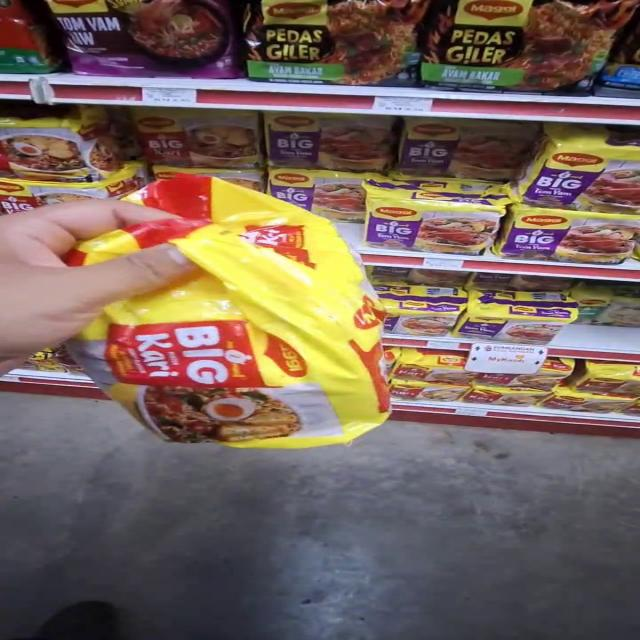Maggi: (71, 177, 399, 451)
